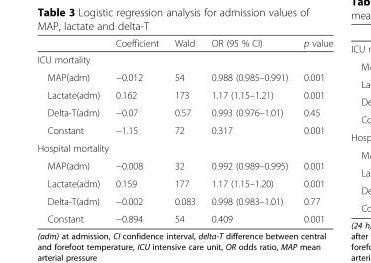table: (36, 36, 332, 224)
table column: (202, 36, 295, 224), (36, 36, 107, 224), (107, 36, 165, 224), (165, 36, 202, 224), (295, 36, 332, 224)
table column header: (36, 36, 332, 50)
table projected row header: (36, 138, 332, 156), (36, 50, 332, 67)
table row: (36, 67, 332, 85), (36, 85, 332, 103), (36, 120, 332, 138), (36, 138, 332, 156), (36, 156, 332, 174), (36, 191, 332, 209), (36, 50, 332, 67), (36, 103, 332, 120), (36, 174, 332, 191), (36, 209, 332, 224), (36, 36, 332, 50)
